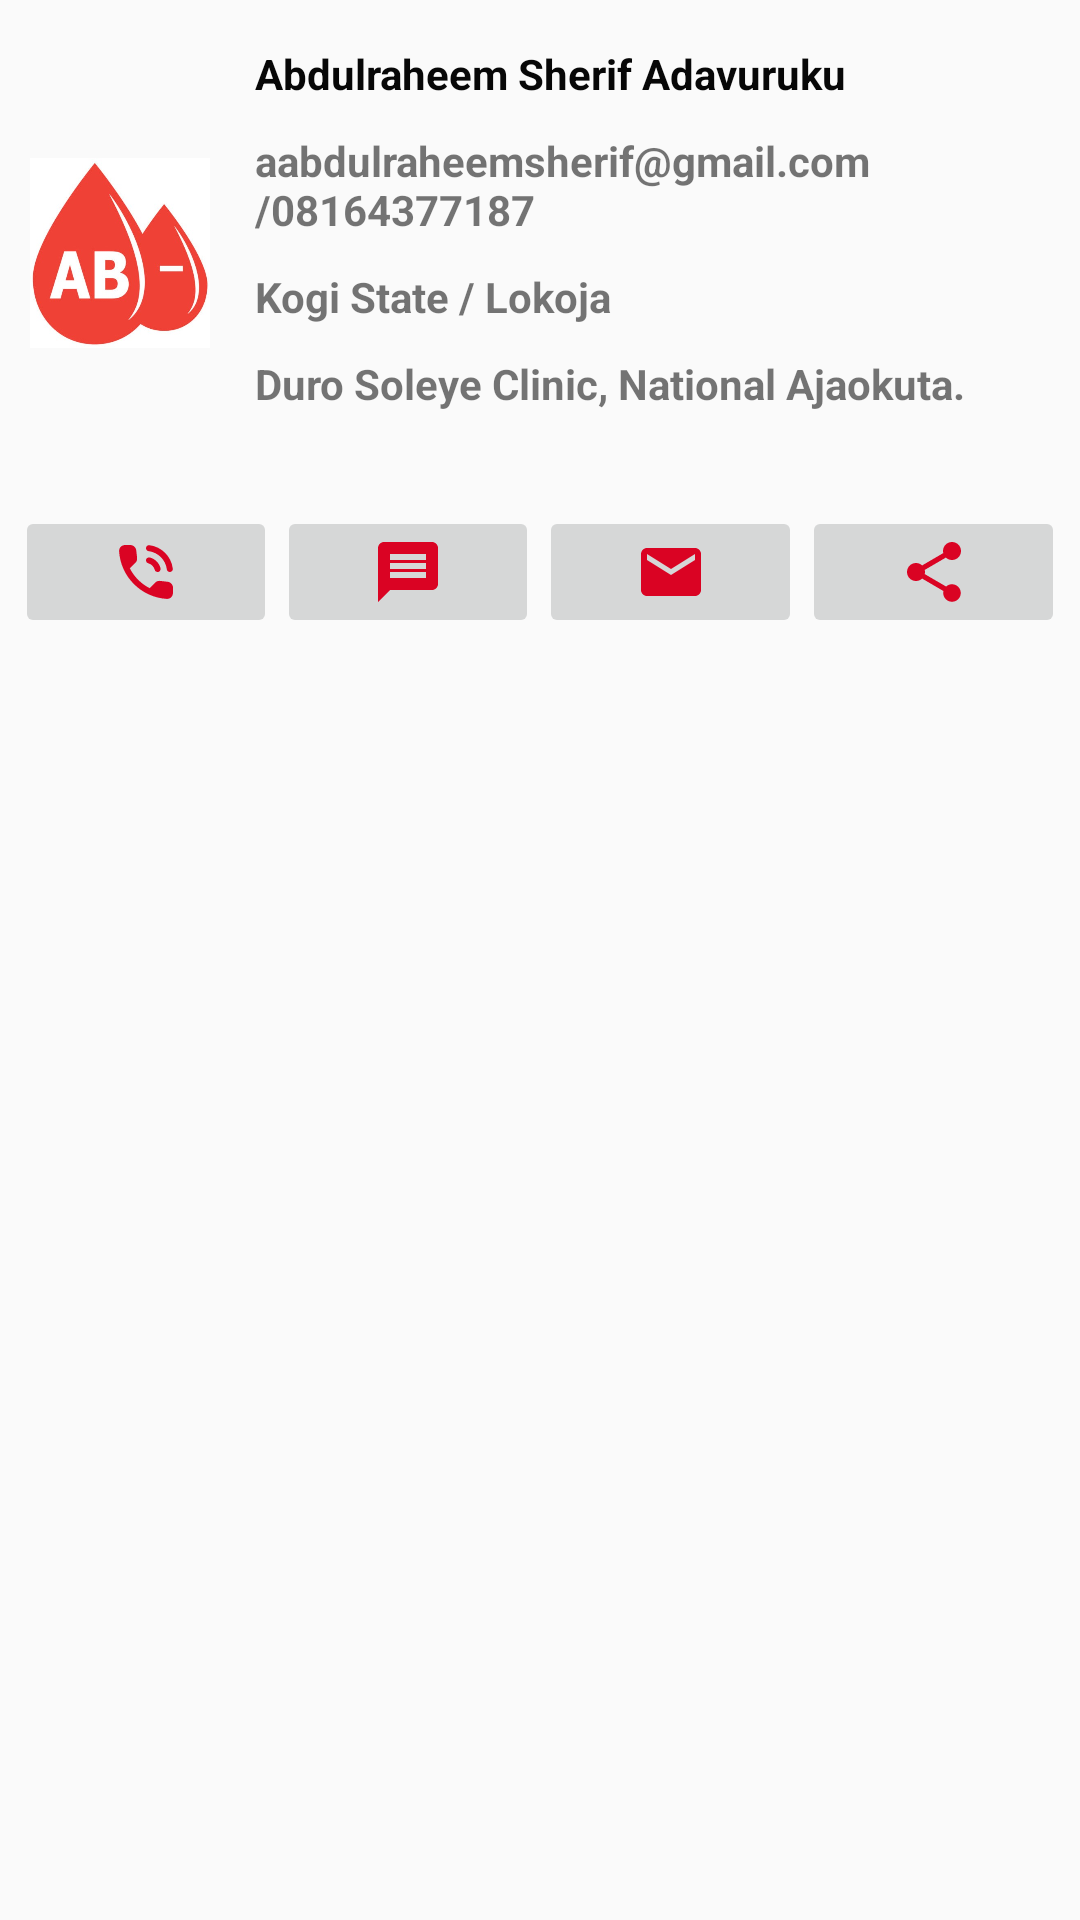

Screen size 1080px×1920px. Icon name, then its box in pixels as box=[x1, y1, x2, y2]:
abminus: box=[32, 163, 208, 345]
email: box=[551, 524, 790, 620]
message: box=[289, 524, 527, 620]
phone: box=[27, 524, 265, 620]
share: box=[814, 524, 1053, 620]
